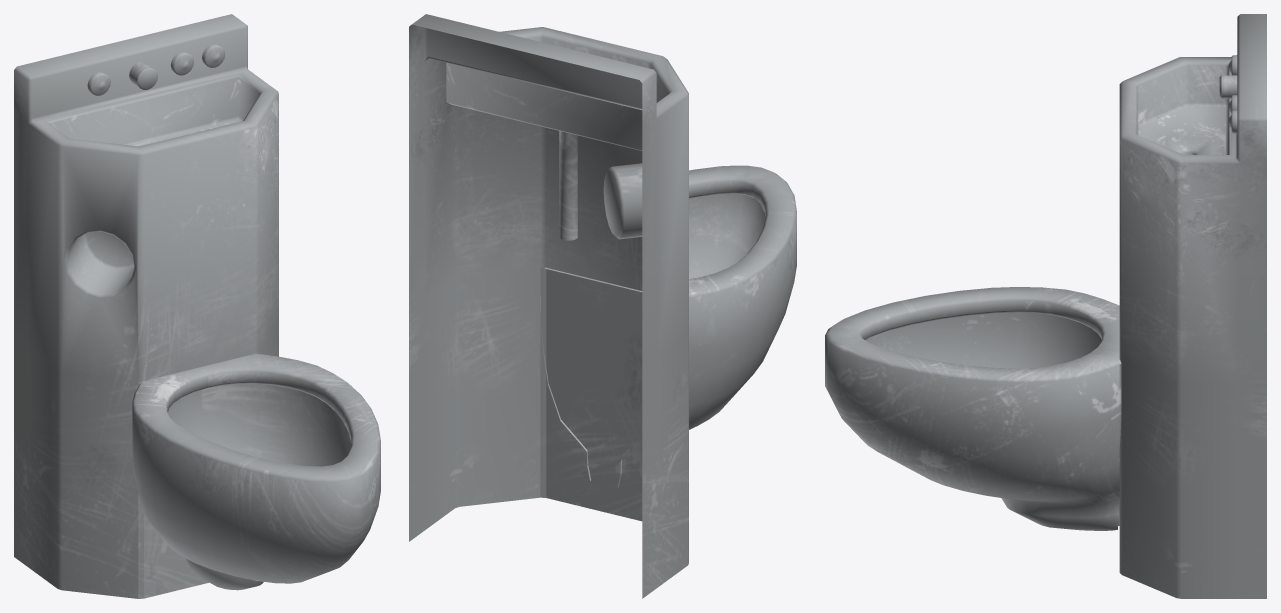
Rendered from SM_Toilet_01.fbx.
The picture shows the model from 3 angles, left to right: view 1: azimuth 30°, elevation 25°; view 2: azimuth 150°, elevation 25°; view 3: azimuth 270°, elevation 25°; orthographic projection. The views are drawn at different scales.
Parts seen in each view (by area): view 1: SM_Toilet_01_LOD0; view 2: SM_Toilet_01_LOD0; view 3: SM_Toilet_01_LOD0.
Boxes of the visible parts, <box> form: SM_Toilet_01_LOD0: <box>14,14,380,598</box>; SM_Toilet_01_LOD0: <box>409,14,796,598</box>; SM_Toilet_01_LOD0: <box>825,14,1266,598</box>.
Size of the model in its own units: 63.57 by 112 by 135.
Materials: 1 (1 with a texture image).
